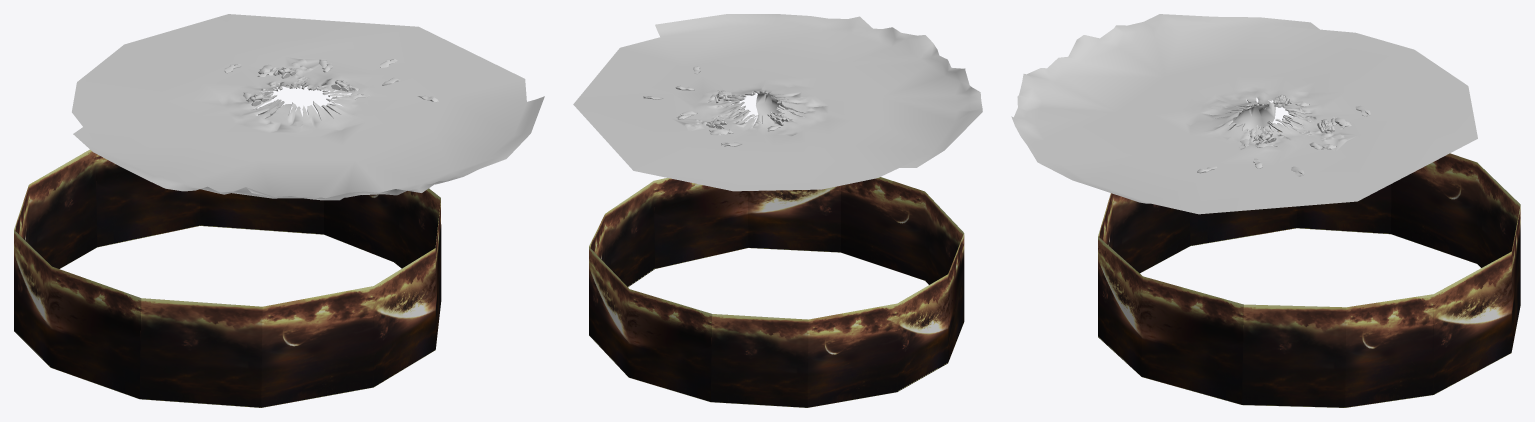
File: levelMainMenu.dae
3 views of the same model, side by side, from view 1: azimuth 30°, elevation 25°; view 2: azimuth 150°, elevation 25°; view 3: azimuth 270°, elevation 25° (orthographic). The views are drawn at different scales.
Parts seen in each view (by area): view 1: Object01, objobjxxx02, objobjObject03; view 2: Object01, objobjxxx02, objobjObject03, objObject02, objObject04; view 3: objobjxxx02, Object01, objobjObject03, objObject02, objObject04.
Part boxes in pixels (left/top/right/bottom): Object01: left=14, top=149, right=441, bottom=407; objobjxxx02: left=72, top=14, right=544, bottom=200; objobjObject03: left=224, top=59, right=438, bottom=102; Object01: left=589, top=177, right=964, bottom=407; objobjxxx02: left=573, top=14, right=982, bottom=191; objobjObject03: left=643, top=66, right=780, bottom=146; objObject02: left=756, top=91, right=805, bottom=121; objObject04: left=723, top=89, right=804, bottom=123; objobjxxx02: left=1011, top=14, right=1477, bottom=214; Object01: left=1098, top=131, right=1520, bottom=407; objobjObject03: left=1197, top=101, right=1370, bottom=176; objObject02: left=1225, top=102, right=1275, bottom=143; objObject04: left=1214, top=100, right=1307, bottom=133.
Bounding box in the file's own units: 10376 × 10843 × 5587.
Materials: 6 (1 with a texture image).
